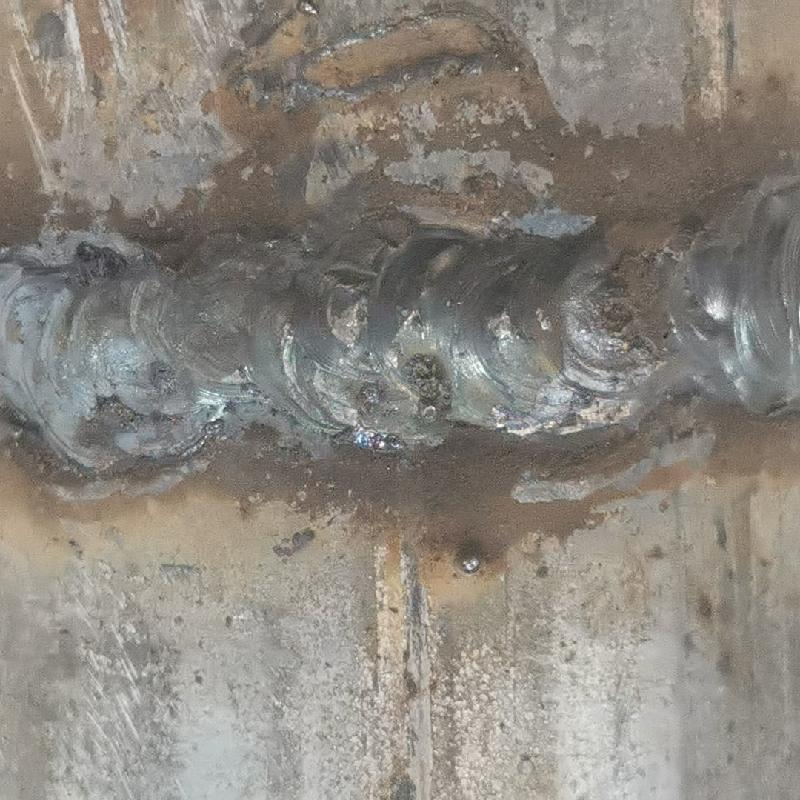good: (0, 230, 799, 471)
